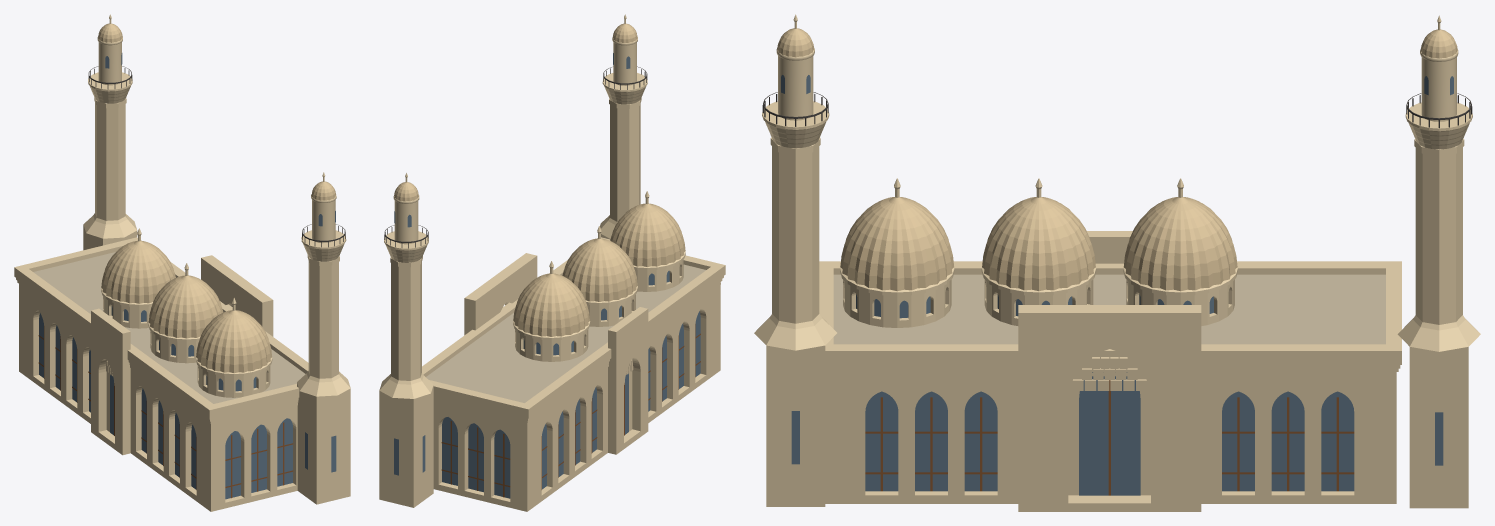
The model's file is baku-bibi-heybat-mosque.detail.glb.
3 views of the same model, side by side, from view 1: azimuth 30°, elevation 25°; view 2: azimuth 150°, elevation 25°; view 3: azimuth 270°, elevation 25° (orthographic). The views are drawn at different scales.
Parts seen in each view (by area): view 1: Bibi-Heybat Mosque; view 2: Bibi-Heybat Mosque; view 3: Bibi-Heybat Mosque.
Part boxes in pixels (<box>): Bibi-Heybat Mosque: <box>14,14,350,511</box>; Bibi-Heybat Mosque: <box>379,14,725,511</box>; Bibi-Heybat Mosque: <box>754,14,1480,511</box>.
Size of the model in its own units: 20.32 by 44.91 by 61.57.
